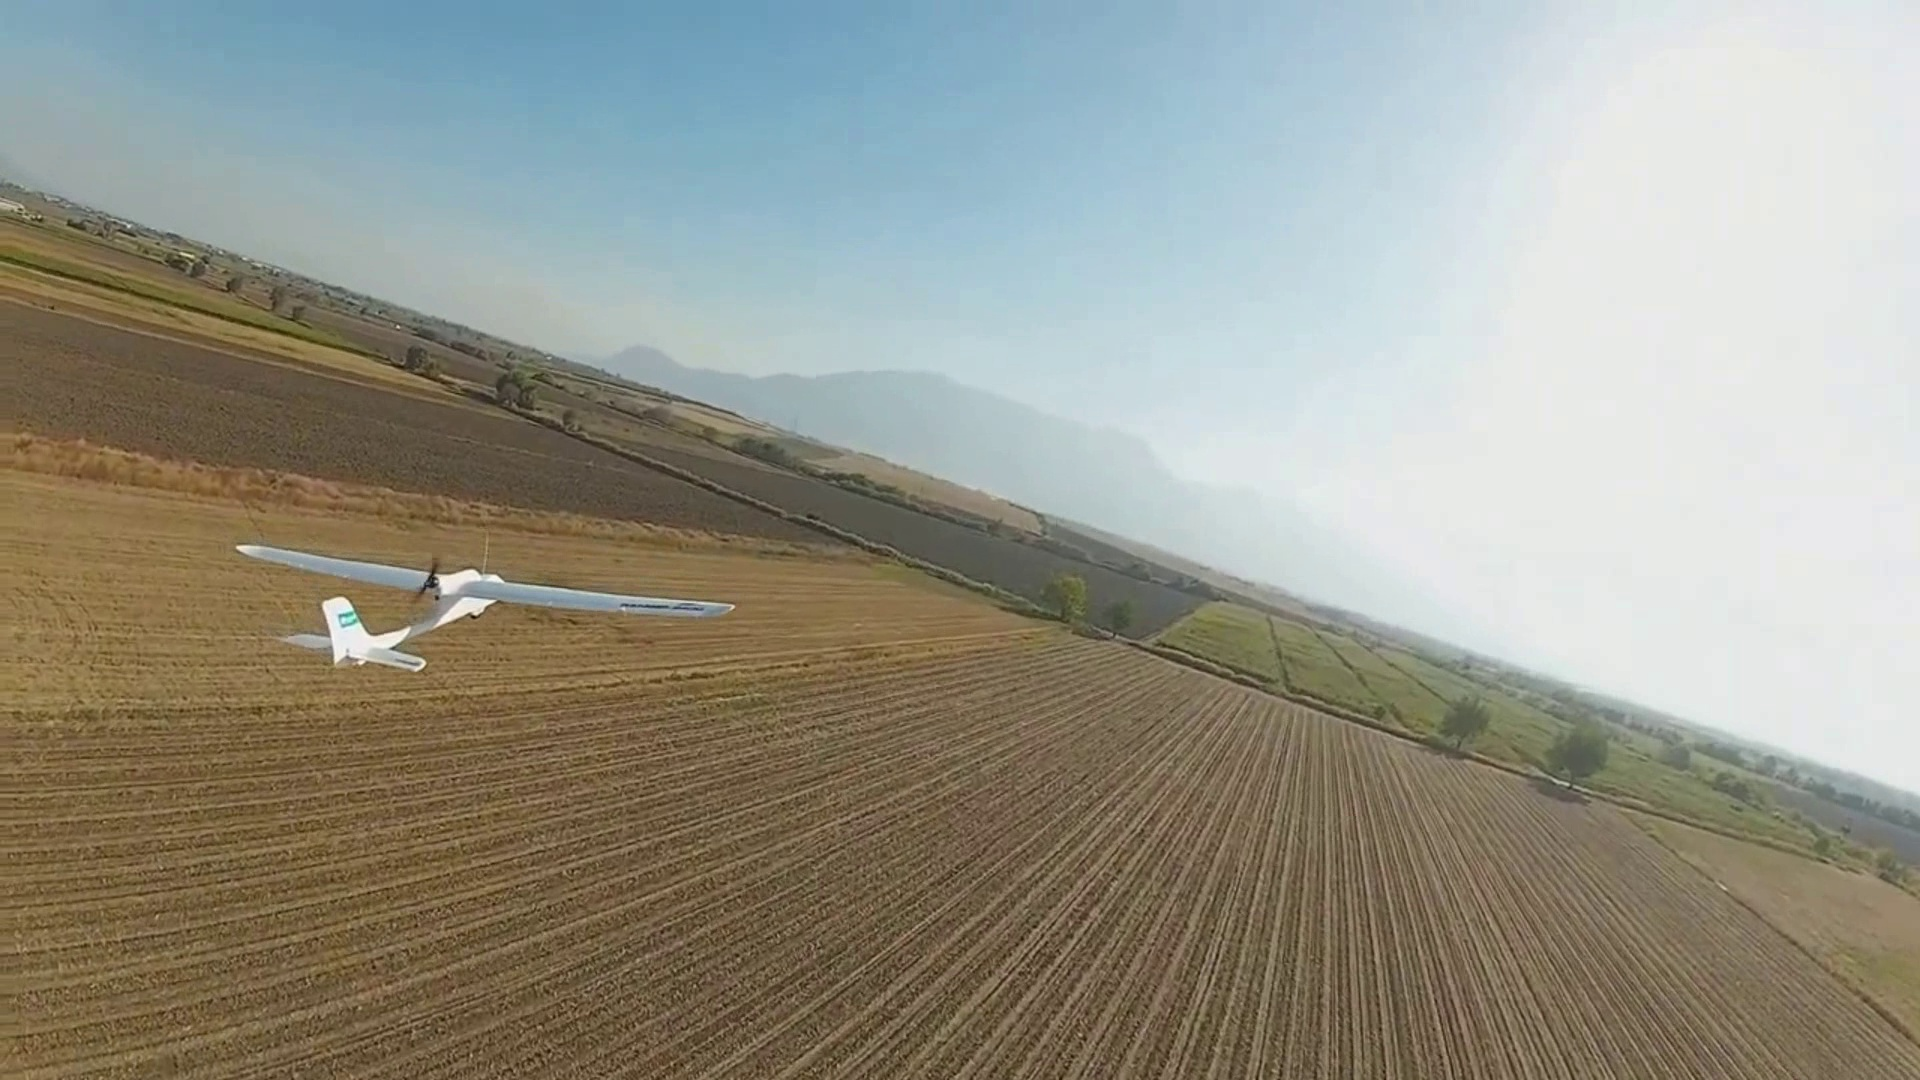airplane: (234, 540, 736, 674)
